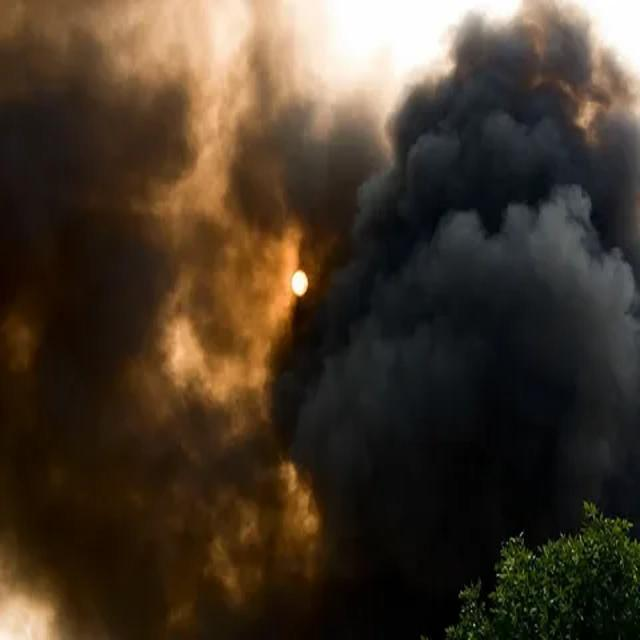Smoke: (265, 0, 640, 569), (1, 0, 264, 640)
